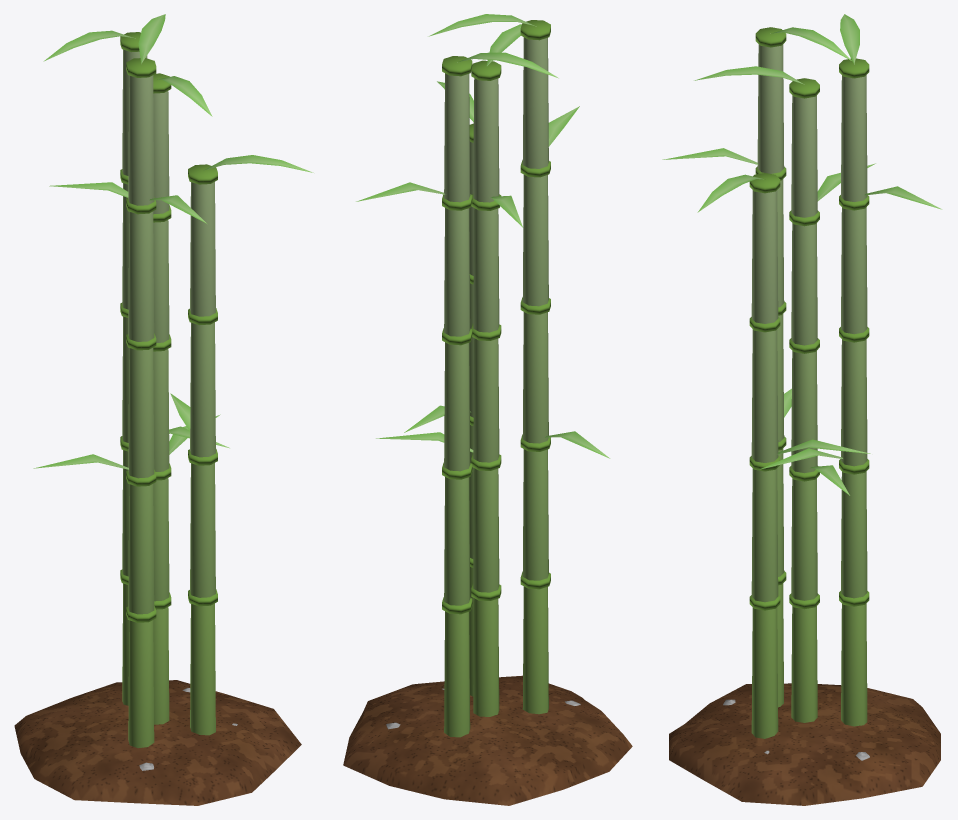
Rendered from plant-bamboo-3.glb.
The picture shows the model from 3 angles, left to right: view 1: azimuth 30°, elevation 25°; view 2: azimuth 150°, elevation 25°; view 3: azimuth 270°, elevation 25°; orthographic projection.
Parts seen in each view (by area): view 1: plant-bamboo-3; view 2: plant-bamboo-3; view 3: plant-bamboo-3.
Boxes of the visible parts, bbox=[...] form: plant-bamboo-3: bbox=[14, 14, 313, 805]; plant-bamboo-3: bbox=[343, 14, 632, 805]; plant-bamboo-3: bbox=[662, 14, 942, 805].
Bounding box in the file's own units: 0.8468 × 2.36 × 0.8503.
Materials: 4 (2 with a texture image).
